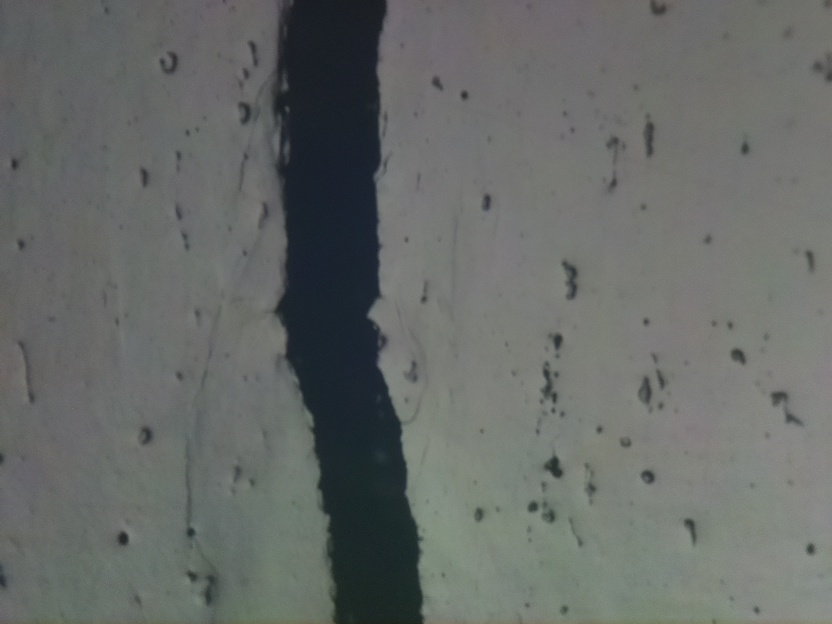crack: (277, 0, 429, 622)
